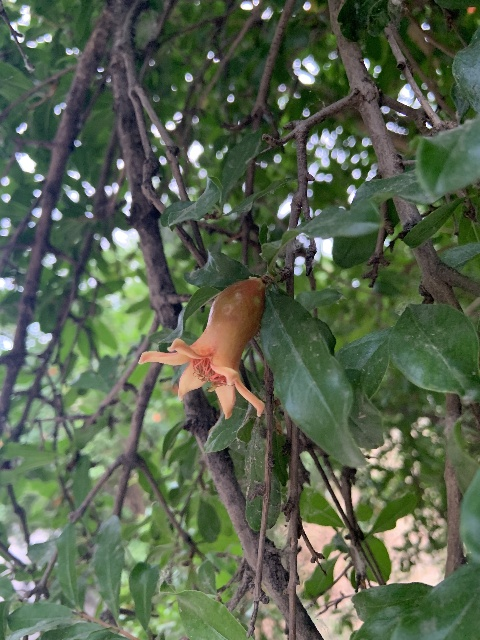early-fruit: (138, 277, 266, 420)
